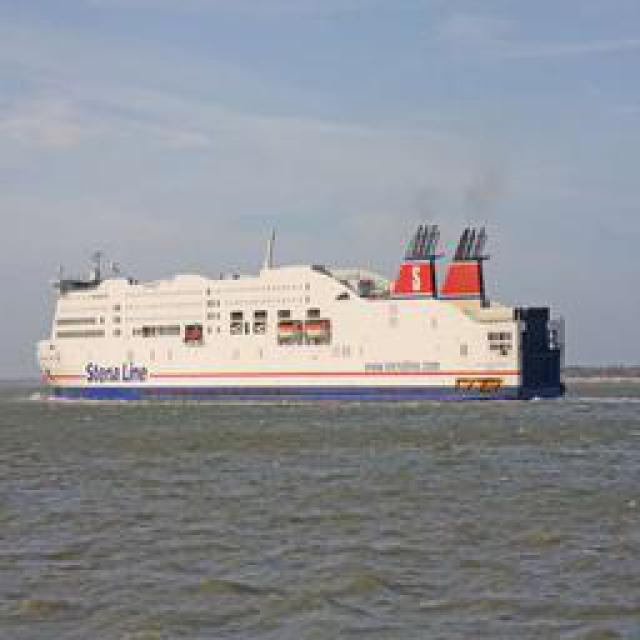Ship: (35, 213, 575, 401)
